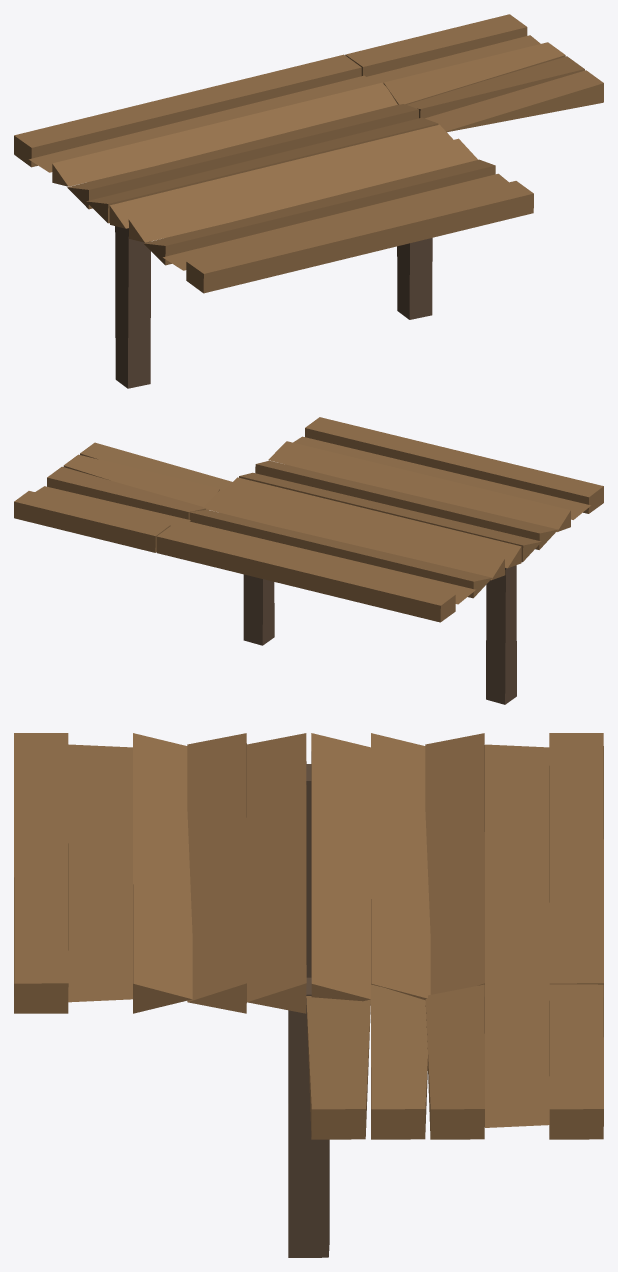
Rendered from harbor-pier-corner.lod2.glb.
The picture shows the model from 3 angles, top to bottom: view 1: azimuth 30°, elevation 25°; view 2: azimuth 150°, elevation 25°; view 3: azimuth 270°, elevation 25°; orthographic projection. The views are drawn at different scales.
Visible parts, largest first — view 1: harbor-pier-corner__body; view 2: harbor-pier-corner__body; view 3: harbor-pier-corner__body.
Boxes of the visible parts, bbox=[...] form: harbor-pier-corner__body: bbox=[14, 14, 603, 388]; harbor-pier-corner__body: bbox=[14, 417, 603, 704]; harbor-pier-corner__body: bbox=[14, 733, 603, 1257].
Size of the model in its own units: 3.03 by 1.06 by 1.98.
